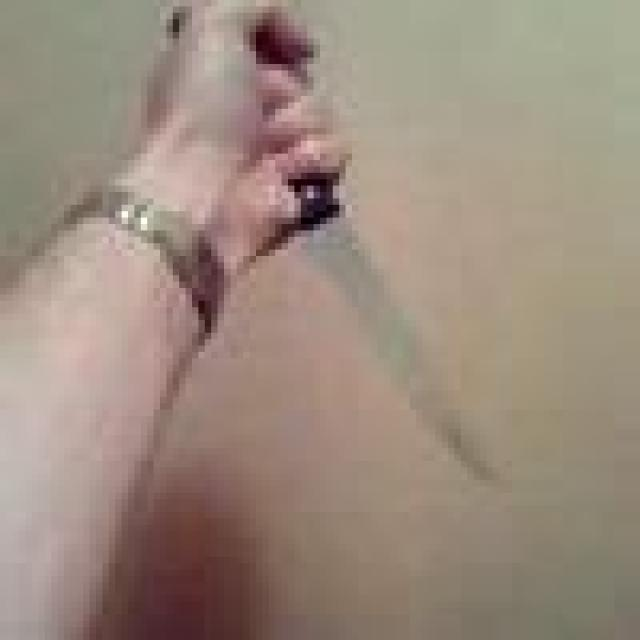senjata_tajam: (296, 177, 508, 489)
